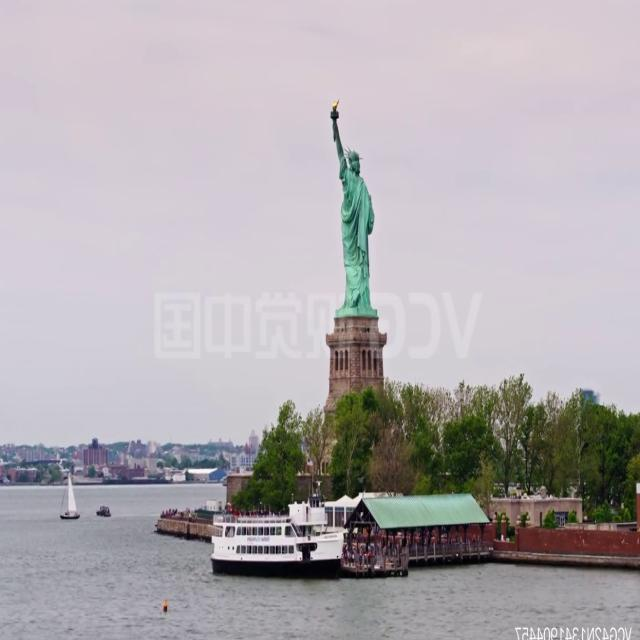houseboat: (94, 499, 112, 523)
passenger ship: (208, 506, 345, 576)
sailboat: (57, 468, 82, 520)
